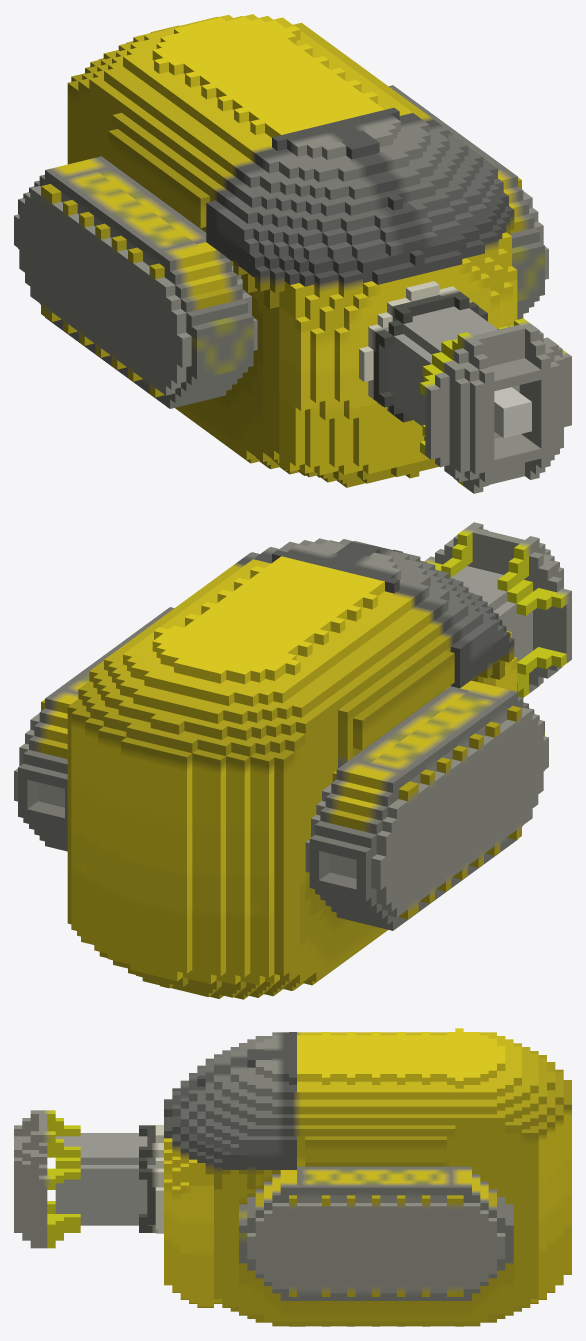
The model's file is PlayerV1.7.dae.
3 views of the same model, one above another, from view 1: azimuth 30°, elevation 25°; view 2: azimuth 150°, elevation 25°; view 3: azimuth 270°, elevation 25° (orthographic). The views are drawn at different scales.
Visible parts, largest first — view 1: PlayerV1.7; view 2: PlayerV1.7; view 3: PlayerV1.7.
Boxes of the visible parts, x1=… form: PlayerV1.7: x1=14, y1=14, x2=571, y2=493; PlayerV1.7: x1=14, y1=522, x2=571, y2=999; PlayerV1.7: x1=14, y1=1028, x2=571, y2=1326.
Bounding box in the file's own units: 39 × 33 × 67.
1 material, 1 textured.
